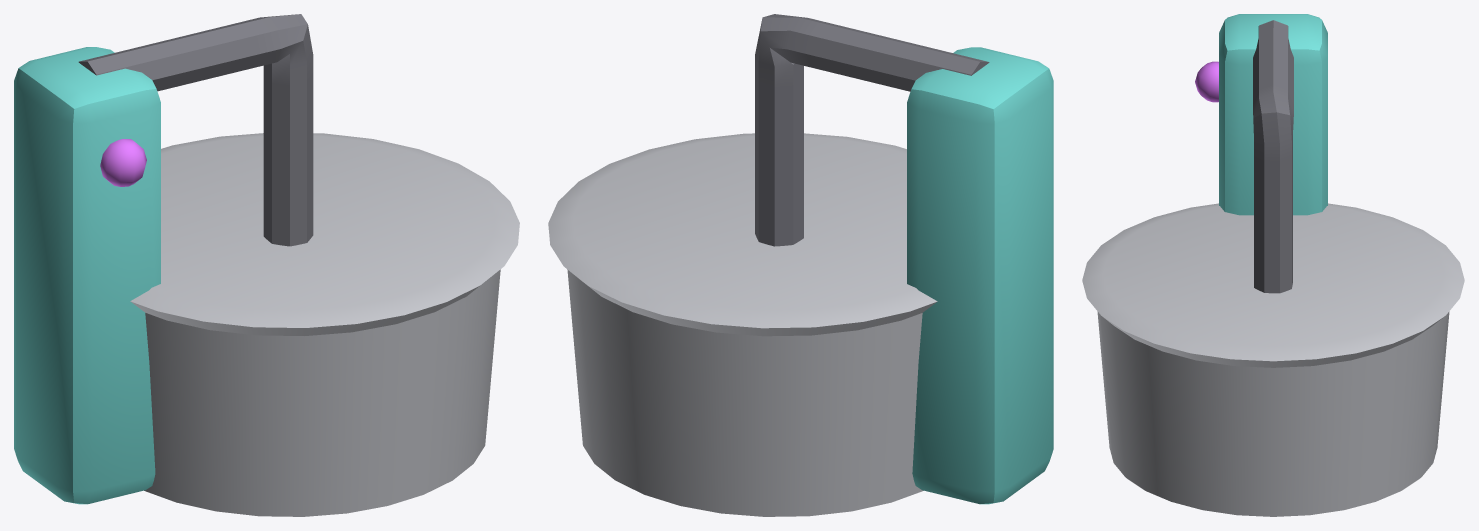
File: CandyMachine_Mixer.fbx
3 views of the same model, side by side, from view 1: azimuth 30°, elevation 25°; view 2: azimuth 150°, elevation 25°; view 3: azimuth 270°, elevation 25° (orthographic). The views are drawn at different scales.
Visible parts, largest first — view 1: CandyMachine_Mixer; view 2: CandyMachine_Mixer; view 3: CandyMachine_Mixer.
Part boxes in pixels (x1,y1,x2,y2): CandyMachine_Mixer: [14, 14, 519, 516]; CandyMachine_Mixer: [548, 14, 1053, 516]; CandyMachine_Mixer: [1082, 14, 1464, 516].
Size of the model in its own units: 6.3 by 5.6 by 5.6.
